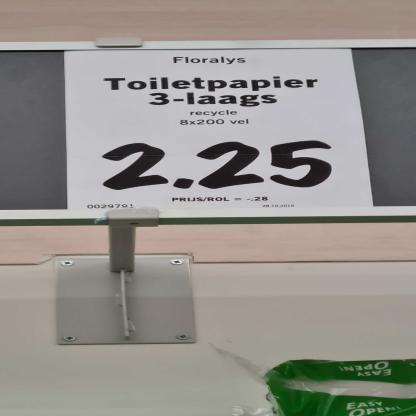prtg: (66, 49, 375, 210)
